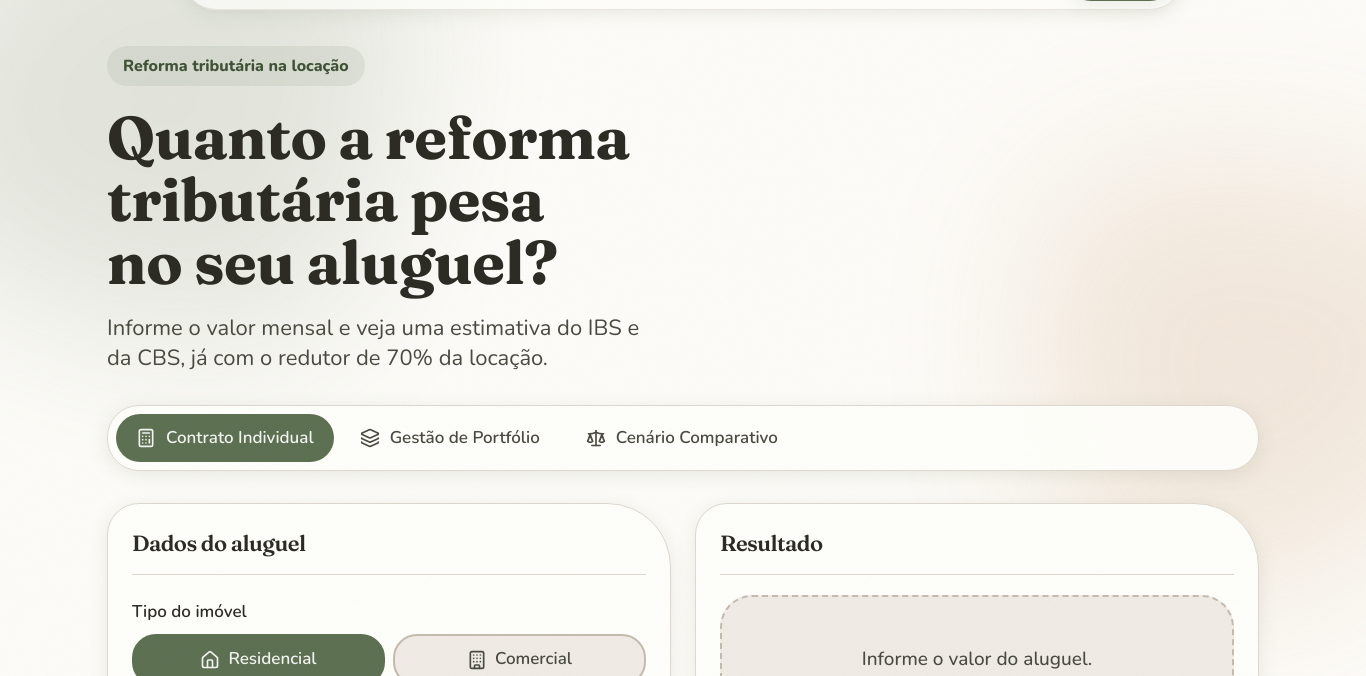
Test: Interface pública (locador assistido) › cadastra um ativo na carteira partindo do estado zerado
This screenshot has width=1366, height=676.
Click the tab "Gestão de Portfólio". click: (450, 438)
box: [340,414,560,462]
(page scrolled)
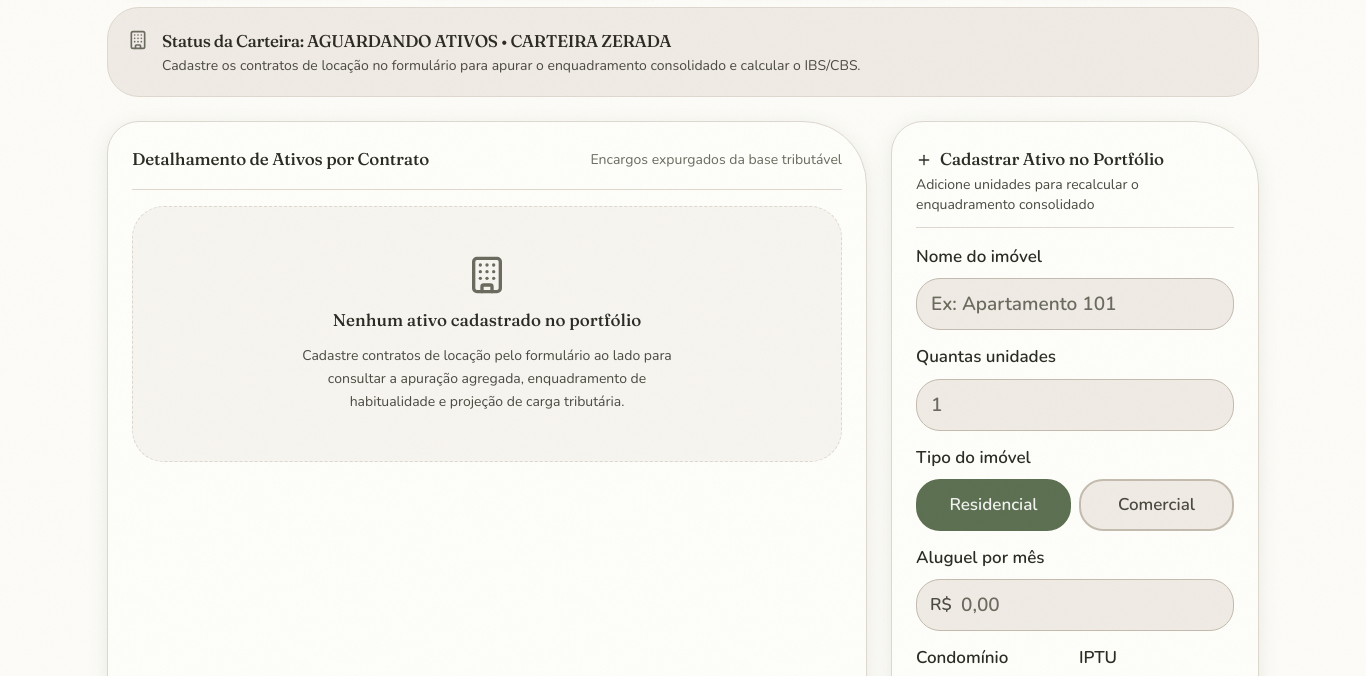
Type "Apto Copacabana" into the field labelled "Nome do imóvel". click: (1075, 304)
box: [916,278,1234,330]
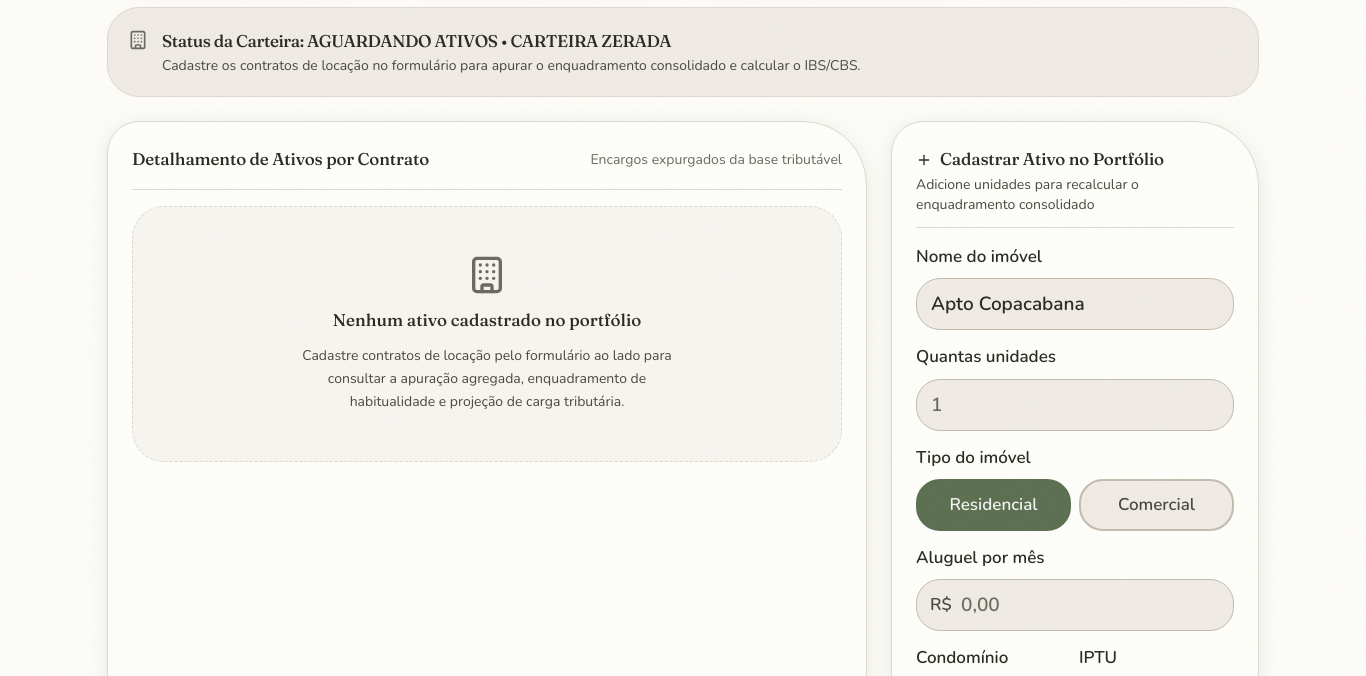
Type "400000" into the field labelled "Aluguel por mês". click: (1075, 605)
box: [916,579,1234,631]
(page scrolled)
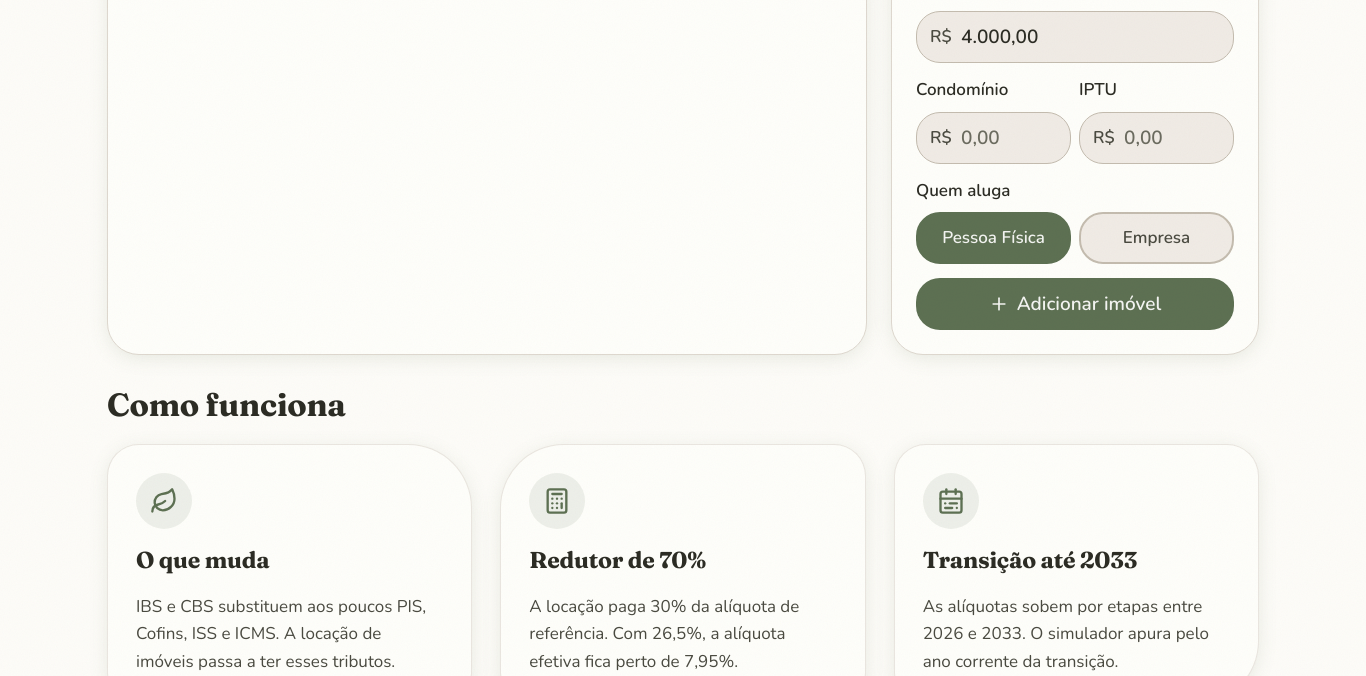
Click the button "Adicionar imóvel". click: (1075, 304)
box: [916,278,1234,330]
(page scrolled)
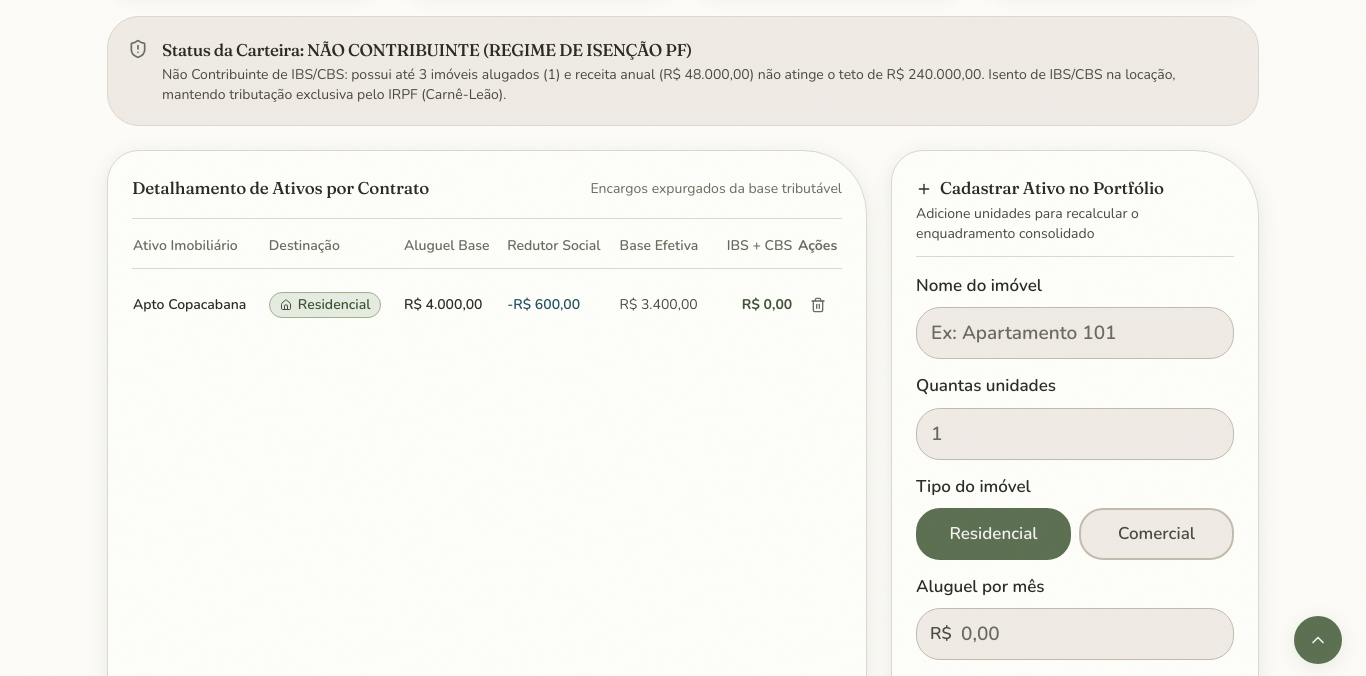
Check: the text "Apto Copacabana" is shown, box [133,295,246,315]
